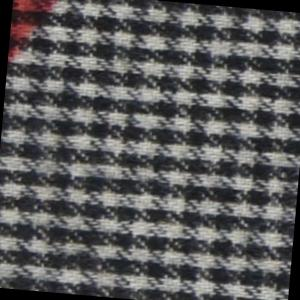Stain: (7, 1, 61, 70)
